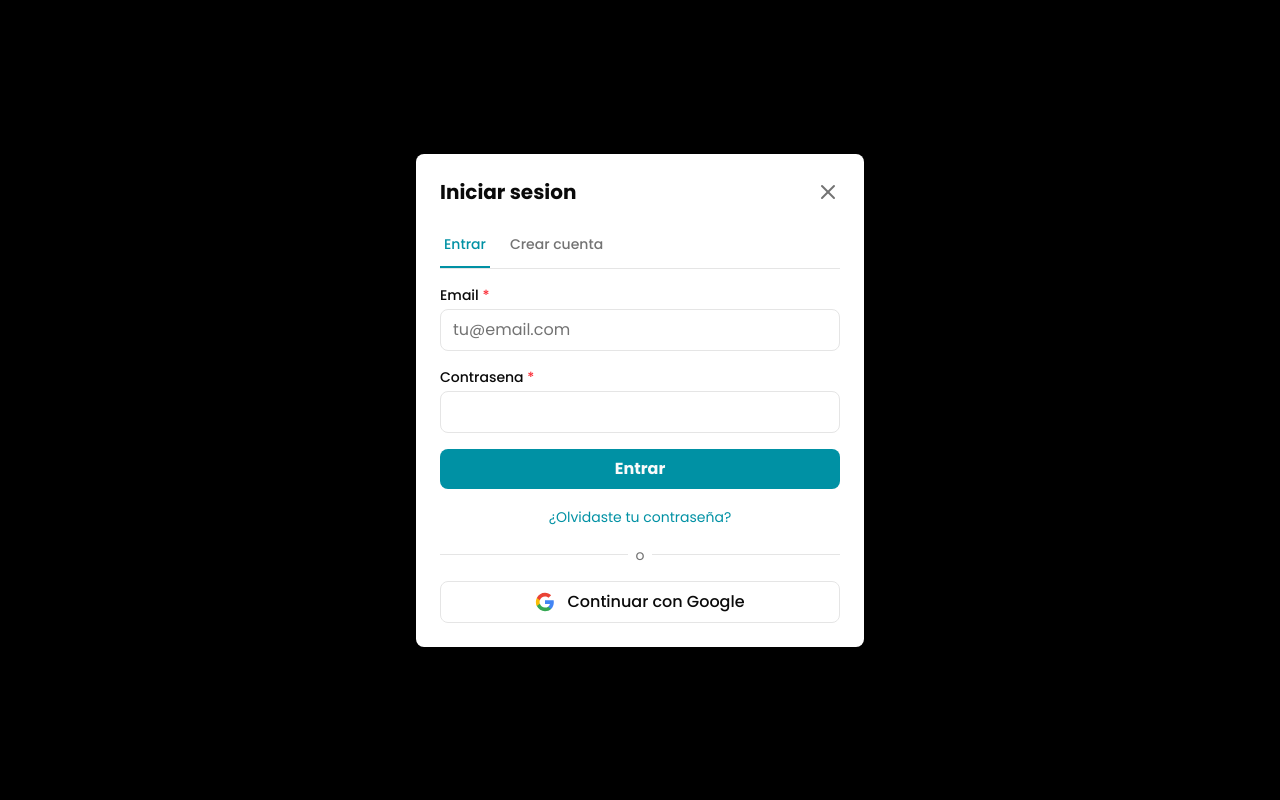
AuthModal › clears error when switching tabs
The width and height of the screenshot is (1280, 800).
# Trigger a login error
In the field labelled "Email *": (640, 330) [440,308,840,350], type "test@test.com"
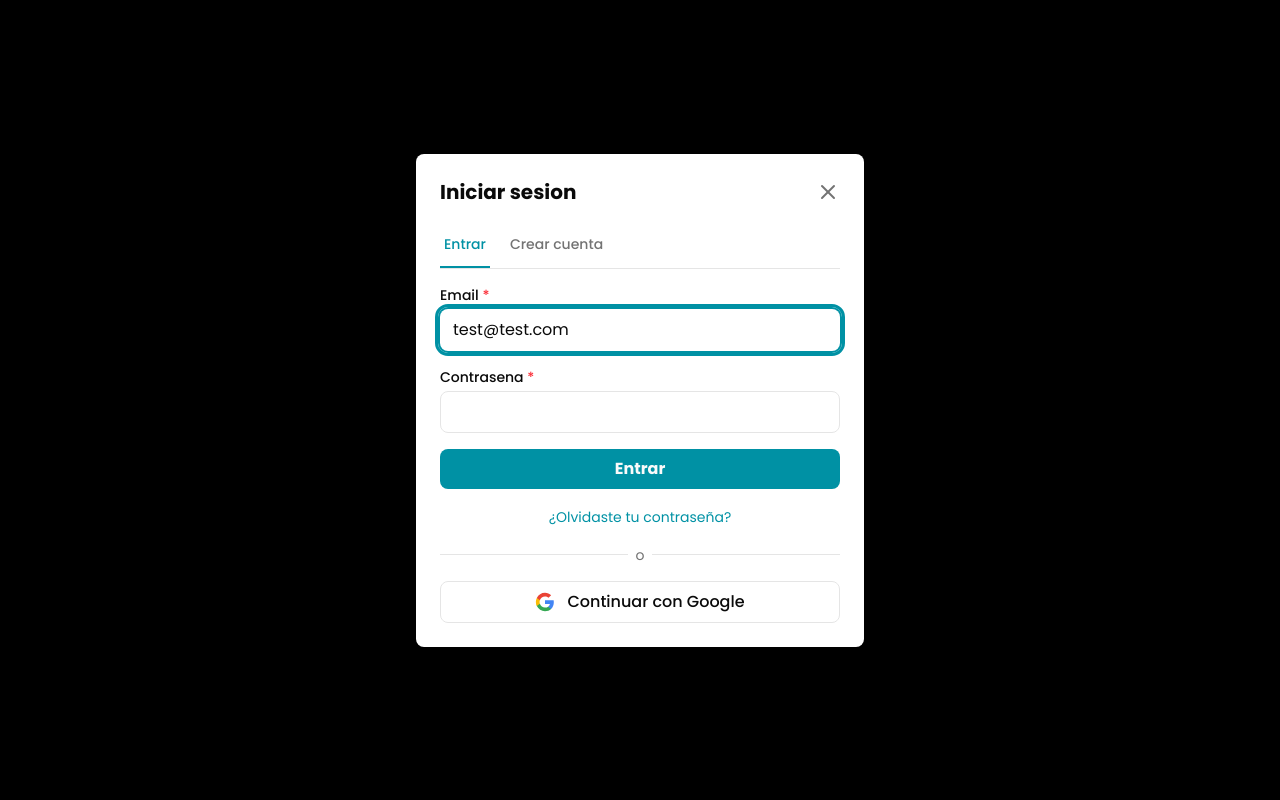
In the password field labelled "Contrasena *": (640, 412) [440,390,840,432], type "password123"
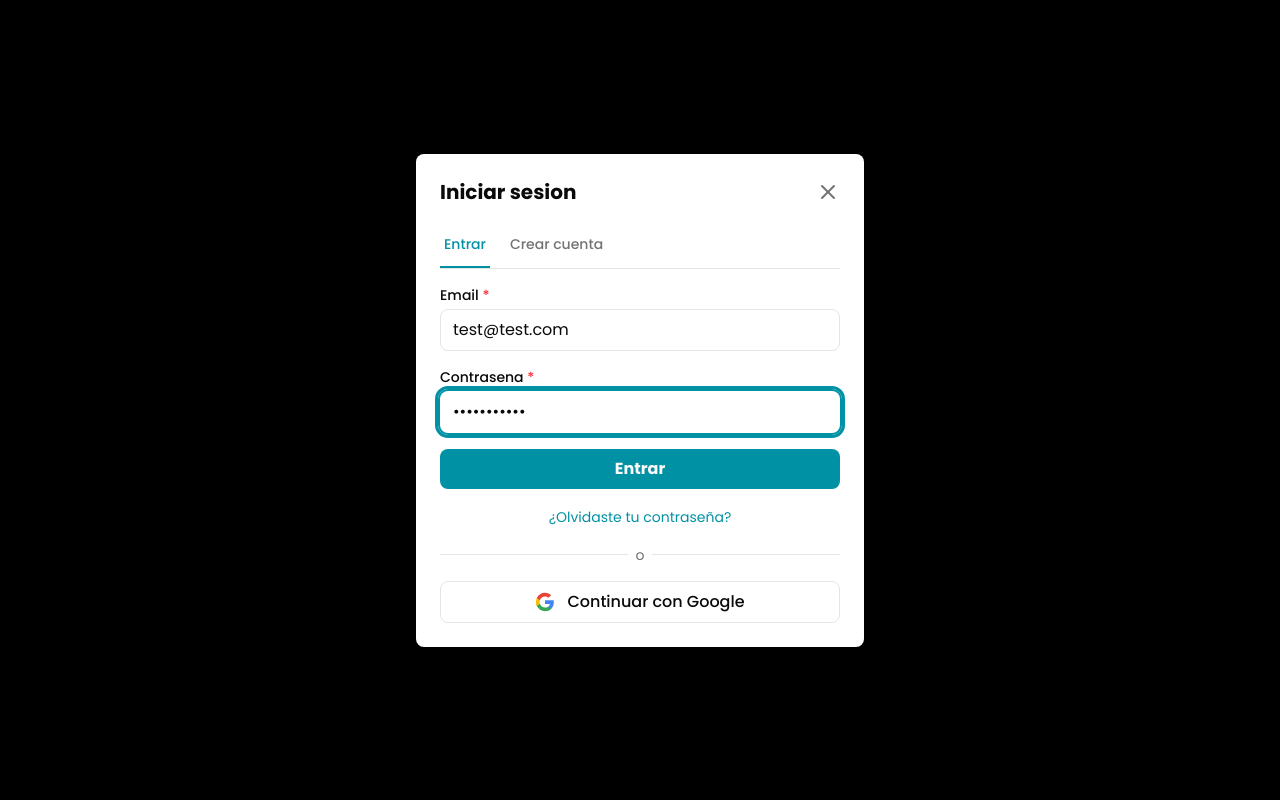
Click the button "Entrar" below "Contrasena": (640, 468) [440,448,840,488]
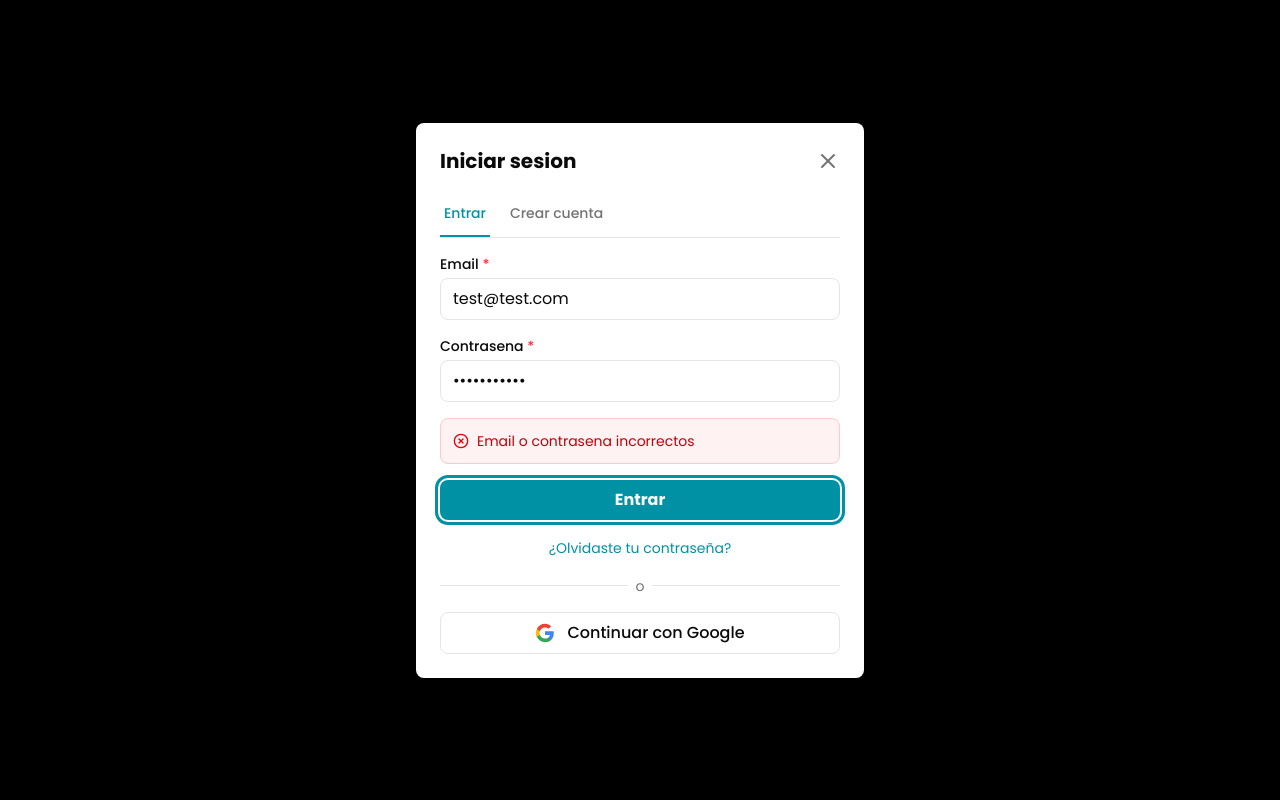
Expected: the text "Email o contrasena incorrectos" is shown, [477,430,695,450]
# Switch tab
Click the button "Crear cuenta": (557, 214) [506,190,607,236]
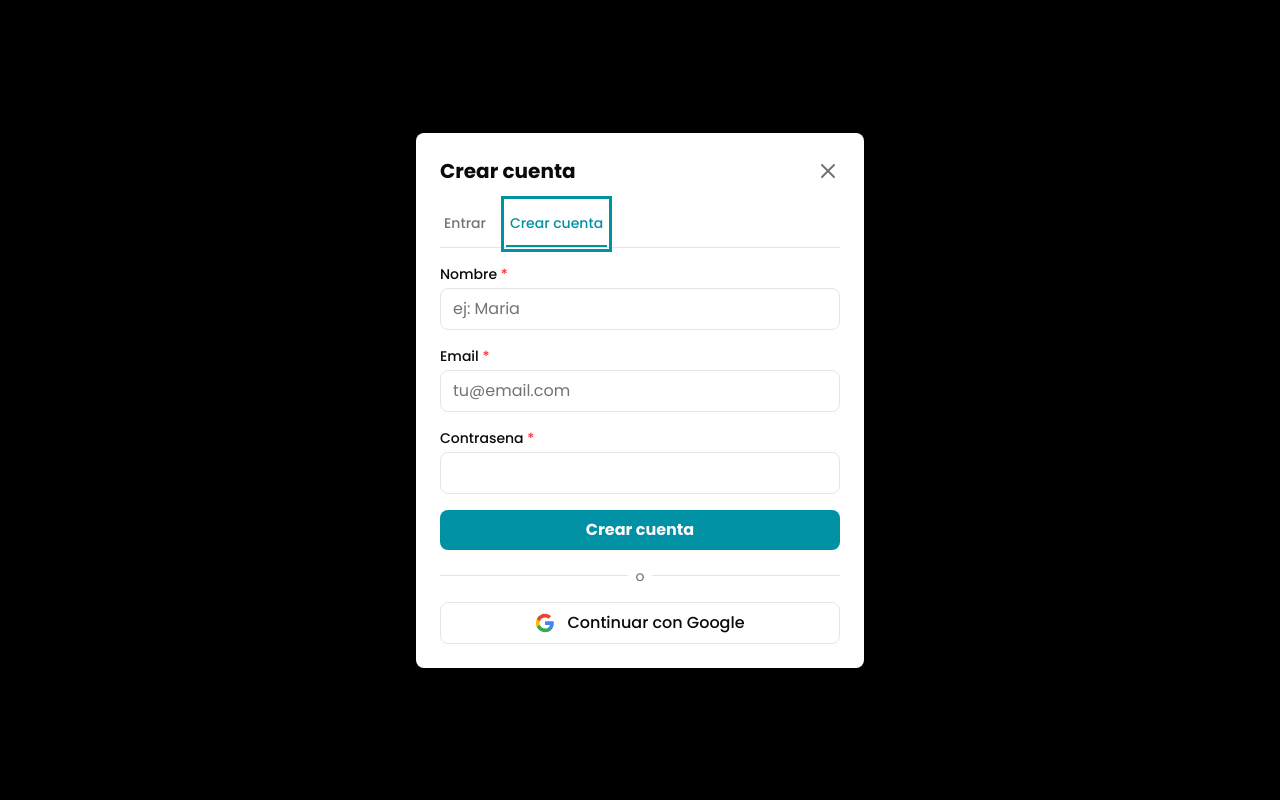
Expected: the text "Email o contrasena incorrectos" is gone
